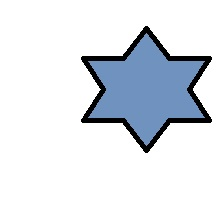star: (80, 25, 212, 154)
